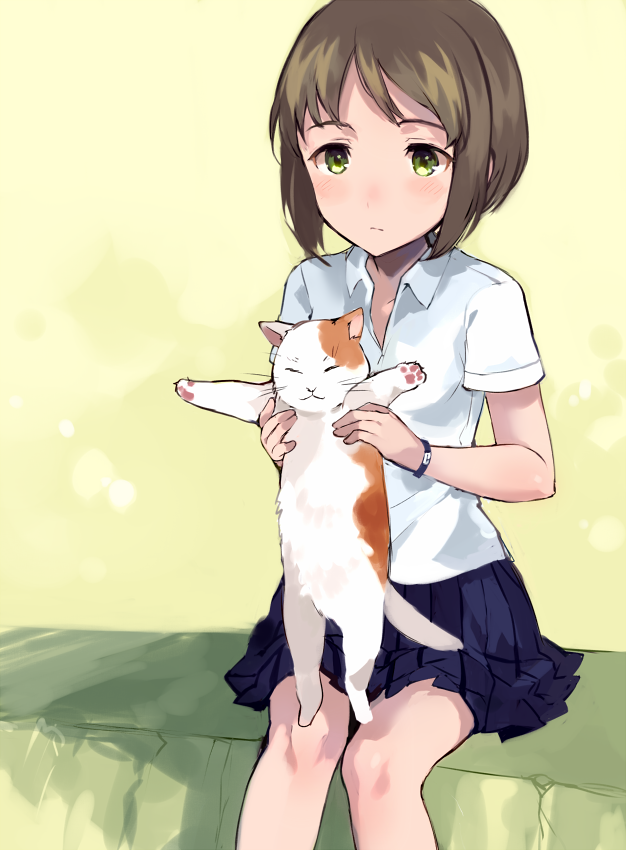纸片人正脸: (270, 0, 536, 267)
